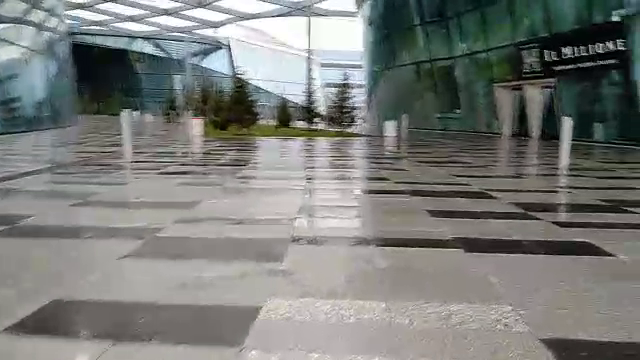ilmalione: (509, 24, 632, 81)
